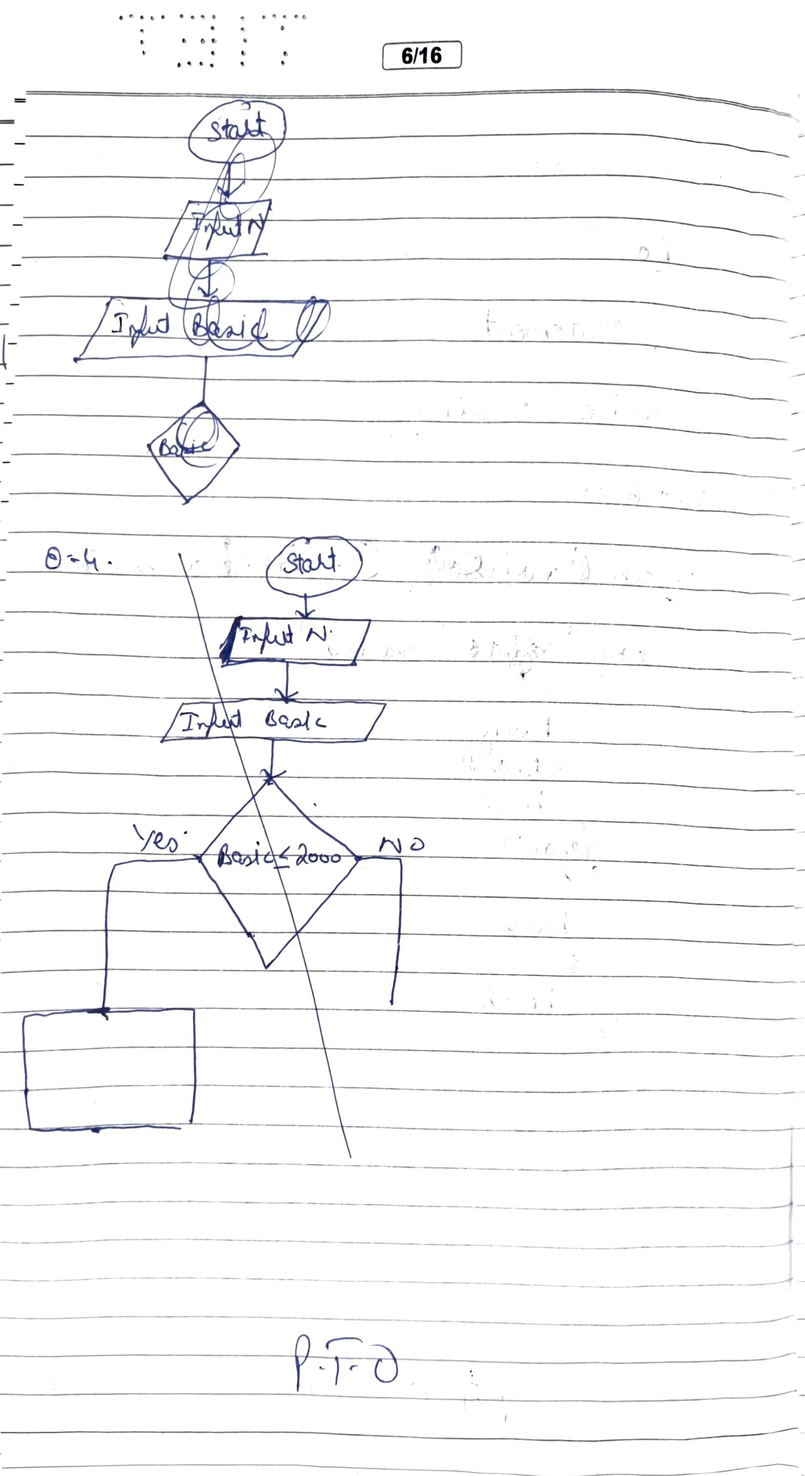cuttings: (20, 533, 427, 1160), (72, 99, 332, 507)
